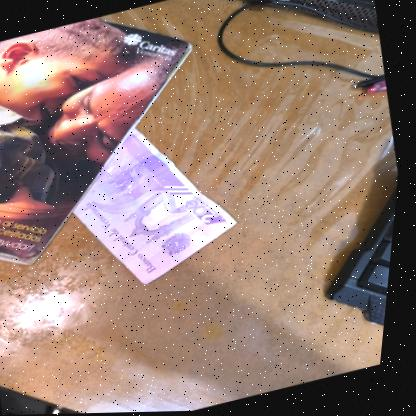one_hundred-back-vef: (53, 105, 261, 302)
